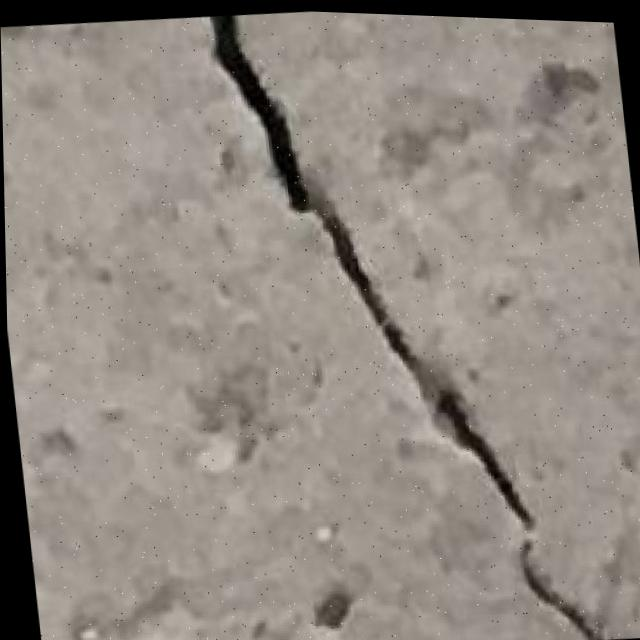Crack: (186, 5, 609, 640)
